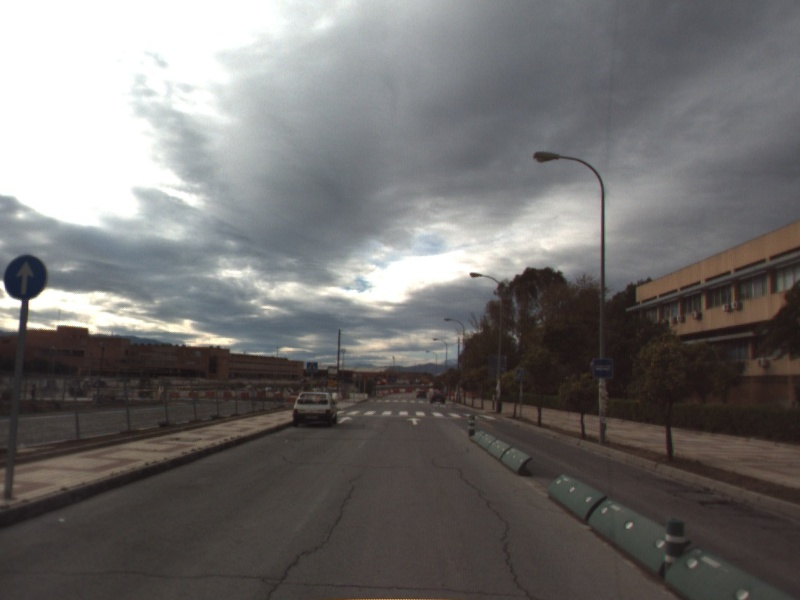STRAIGHT: (405, 415, 423, 427), (335, 414, 354, 425)
